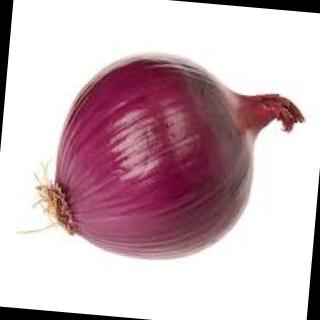Bawang Merah: (38, 42, 312, 277)
